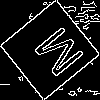M: (25, 25, 86, 86)
